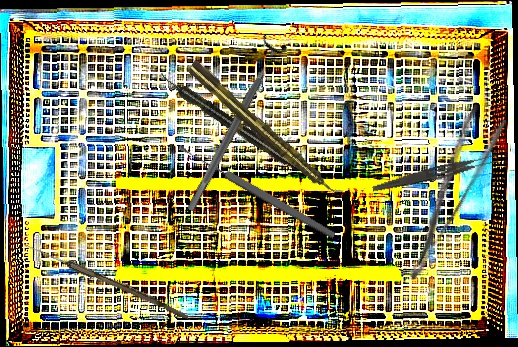Dressing Forceps: (380, 101, 511, 284), (371, 150, 500, 198)
Fixation Ring: (176, 34, 290, 217)
Handpiece: (184, 57, 344, 204), (156, 69, 304, 175)
Surgical Spoon: (178, 142, 337, 241), (22, 241, 191, 320)
